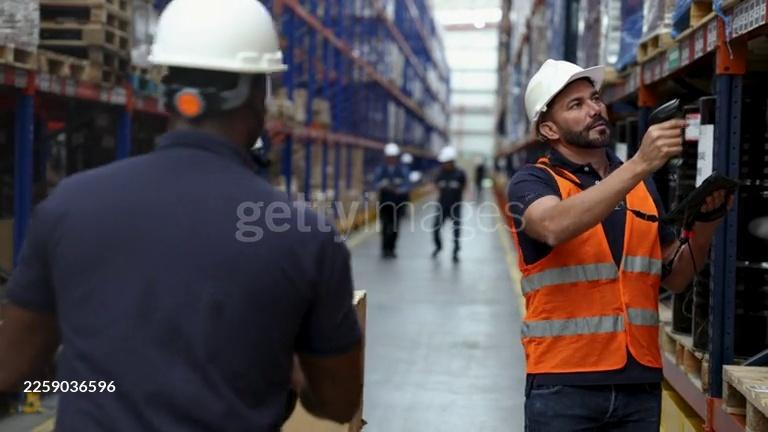helmet: (143, 0, 290, 80), (524, 58, 607, 127)
person: (1, 0, 368, 432), (504, 59, 735, 432), (426, 146, 468, 264), (373, 144, 407, 259), (398, 152, 424, 190)
